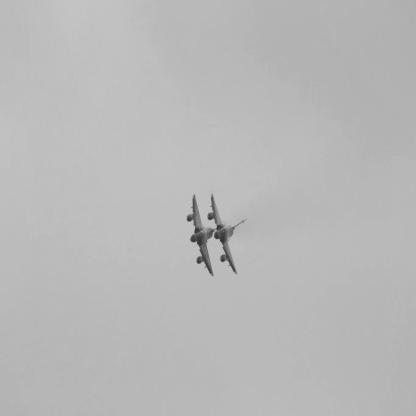Mirage2000: (208, 194, 249, 276), (187, 194, 226, 278)
